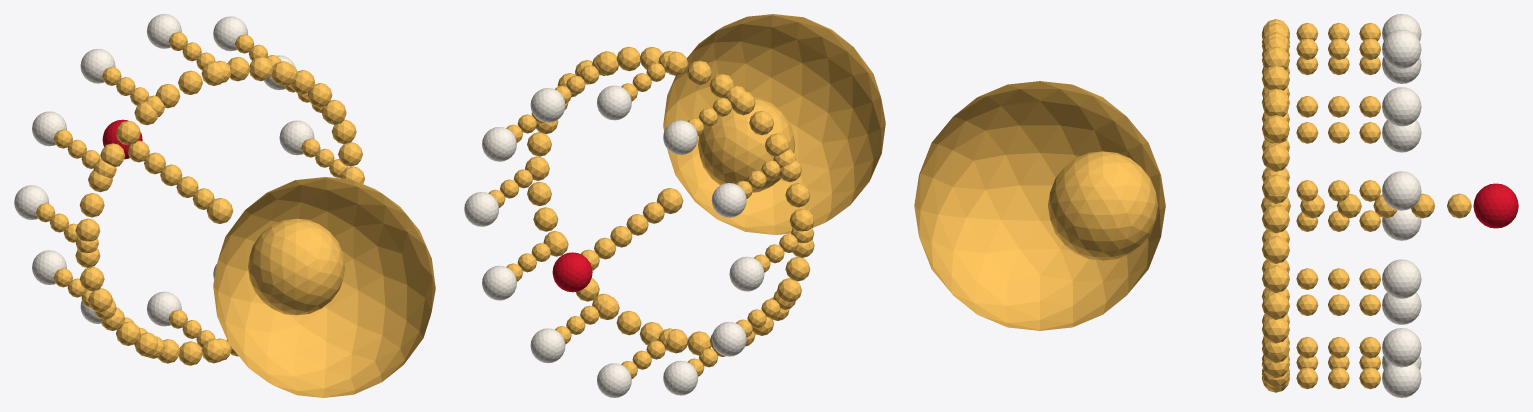
The model's file is jhumka_bell.glb.
3 views of the same model, side by side, from view 1: azimuth 30°, elevation 25°; view 2: azimuth 150°, elevation 25°; view 3: azimuth 270°, elevation 25° (orthographic). The views are drawn at different scales.
Visible parts, largest first — view 1: world; view 2: world; view 3: world.
Boxes of the visible parts, box(x1,y1,x2,y2) form: world: box(14, 14, 435, 397); world: box(464, 14, 885, 397); world: box(914, 14, 1518, 397).
Bounding box in the file's own units: 0.0245 × 0.0245 × 0.0384.
1 material, 1 textured.
